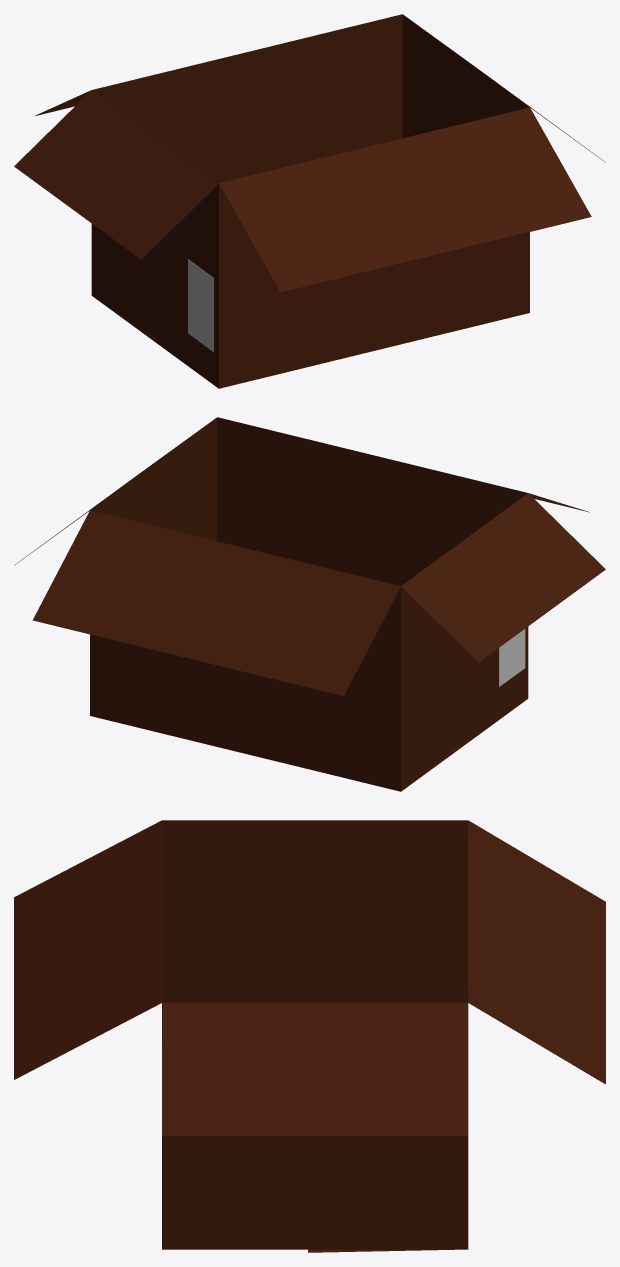
Rendered from CardBoardBox.obj.
3 views of the same model, one above another, from view 1: azimuth 30°, elevation 25°; view 2: azimuth 150°, elevation 25°; view 3: azimuth 270°, elevation 25° (orthographic). The views are drawn at different scales.
Visible parts, largest first — view 1: Cube; view 2: Cube; view 3: Cube.
Boxes of the visible parts, x1=… form: Cube: x1=14, y1=14, x2=605, y2=388; Cube: x1=14, y1=417, x2=605, y2=791; Cube: x1=14, y1=820, x2=605, y2=1252.
Size of the model in its own units: 33.55 by 14.4 by 30.81.
